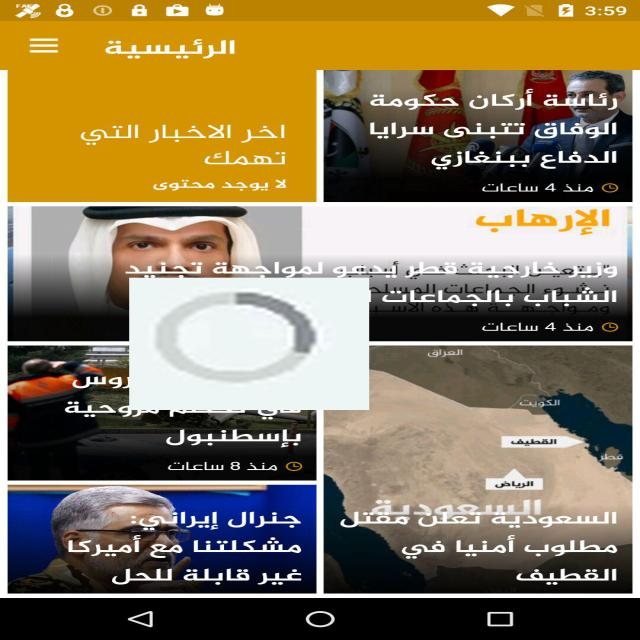misdirection: (129, 278, 369, 410)
